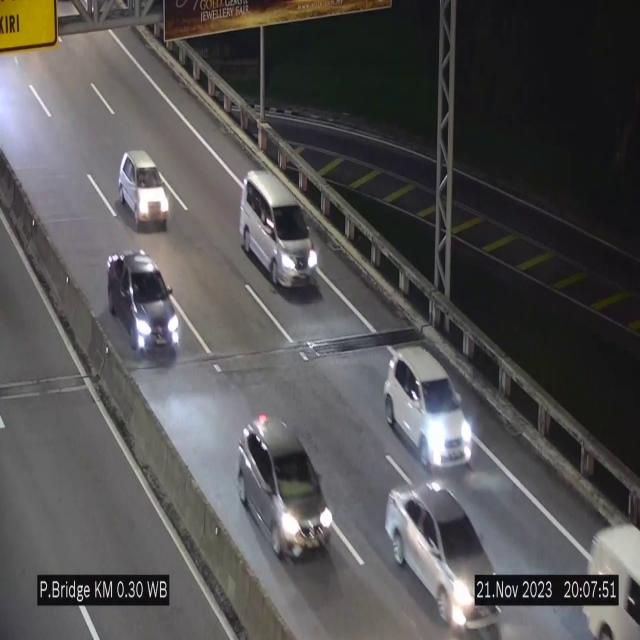Car: (395, 483, 495, 631), (237, 414, 335, 558), (384, 346, 472, 470), (240, 171, 320, 289), (108, 252, 180, 356), (119, 150, 169, 230)
